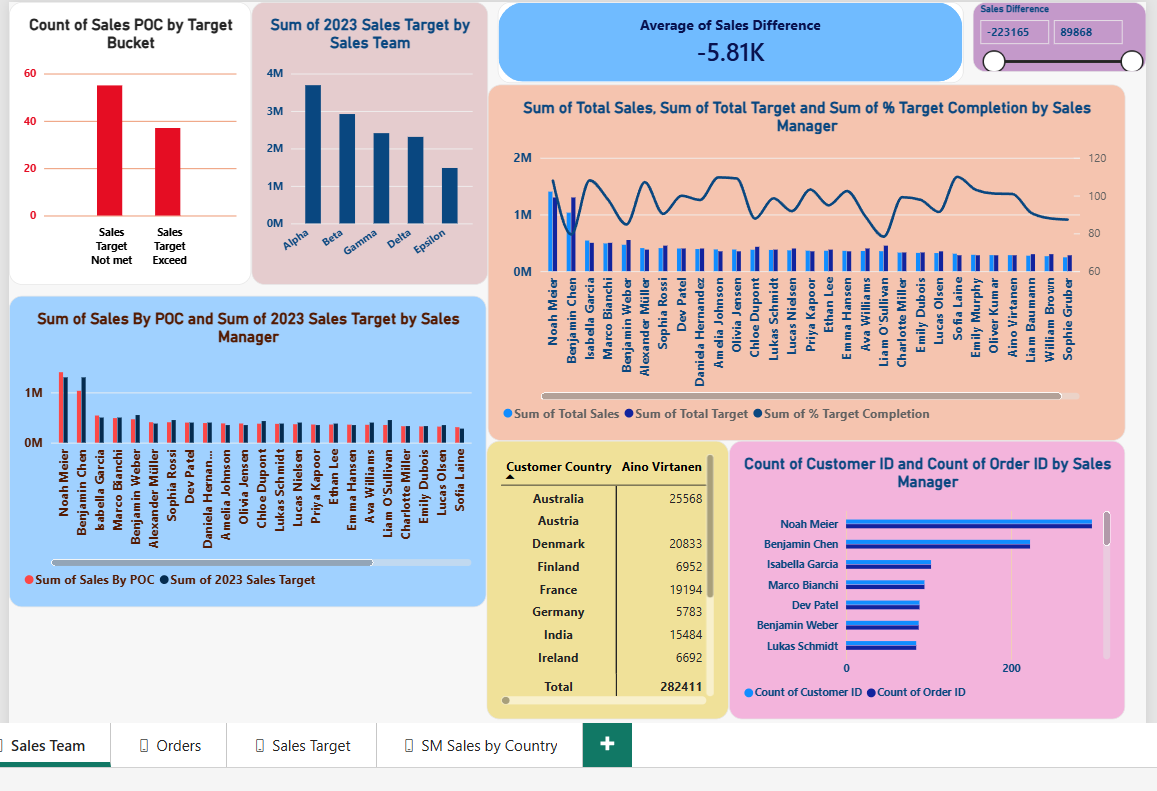

Layout of this report page (visuals, bound fields, positions):
{"tool":"powerbi","page":{"name":"Sales Team","canvas":[1300,900],"ordinal":0},"visuals":[{"type":"clusteredColumnChart","fields":{"Category":["Sales Targets.Target Bucket"],"Y":["CountNonNull(Sales Targets.Sales POC)"]},"box":[0,0,277.1,322.9],"z":0},{"type":"clusteredColumnChart","fields":{"Category":["Sales Targets.Sales Team"],"Y":["Sum(Sales Targets.2023 Sales Target)"]},"box":[277.1,0,270,322.9],"z":1000},{"type":"clusteredColumnChart","fields":{"Category":["Sales Targets.Sales Manager"],"Y":["Sum(Sales Targets.Sales By POC)","Sum(Sales Targets.2023 Sales Target)"]},"box":[0,335.7,545.7,355.7],"z":2000},{"type":"cardVisual","fields":{"Data":["Avg(Sales Targets.Sales Difference)"]},"box":[558.6,0,532.9,92.9],"z":3000},{"type":"slicer","fields":{"Values":["Sales Targets.Sales Difference"]},"box":[1101.4,0,198.8,80],"z":4000},{"type":"lineClusteredColumnComboChart","fields":{"Category":["Sales Manager Target Completion.Sales Manager"],"Y":["Sum(Sales Manager Target Completion.Total Sales)","Sum(Sales Manager Target Completion.Total Target)"],"Y2":["Sum(Sales Manager Target Completion.% Target Completion)"]},"box":[547.1,94.3,728.6,407.1],"z":5000},{"type":"pivotTable","fields":{"Columns":["Orders.Sales Manager"],"Rows":["Customers.Customer Country"],"Values":["Sum(Orders.Order Value)"]},"box":[545.7,501.4,277.1,318.6],"z":6000},{"type":"clusteredBarChart","fields":{"Category":["Orders.Sales Manager"],"Y":["CountNonNull(Orders.Customer ID)","CountNonNull(Orders.Order ID)"]},"box":[822.9,501.4,452.9,318.6],"z":7000}]}

Visuals, with their boxes on the page's 1300x900 design canvas (x1, y1, x2, y2). These are canvas units, not pixel positions in the 1157x791 screenshot, which may show the page scaled, cropped or inside an application window:
clusteredColumnChart - Sales Targets.Target Bucket x CountNonNull(Sales Targets.Sales POC): select_region(0, 0, 277, 323)
clusteredColumnChart - Sales Targets.Sales Team x Sum(Sales Targets.2023 Sales Target): select_region(277, 0, 547, 323)
clusteredColumnChart - Sales Targets.Sales Manager x Sum(Sales Targets.Sales By POC): select_region(0, 336, 546, 691)
cardVisual - Avg(Sales Targets.Sales Difference): select_region(559, 0, 1092, 93)
slicer - Sales Targets.Sales Difference: select_region(1101, 0, 1300, 80)
lineClusteredColumnComboChart - Sales Manager Target Completion.Sales Manager x Sum(Sales Manager Target Completion.Total Sales): select_region(547, 94, 1276, 501)
pivotTable - Orders.Sales Manager x Customers.Customer Country: select_region(546, 501, 823, 820)
clusteredBarChart - Orders.Sales Manager x CountNonNull(Orders.Customer ID): select_region(823, 501, 1276, 820)
